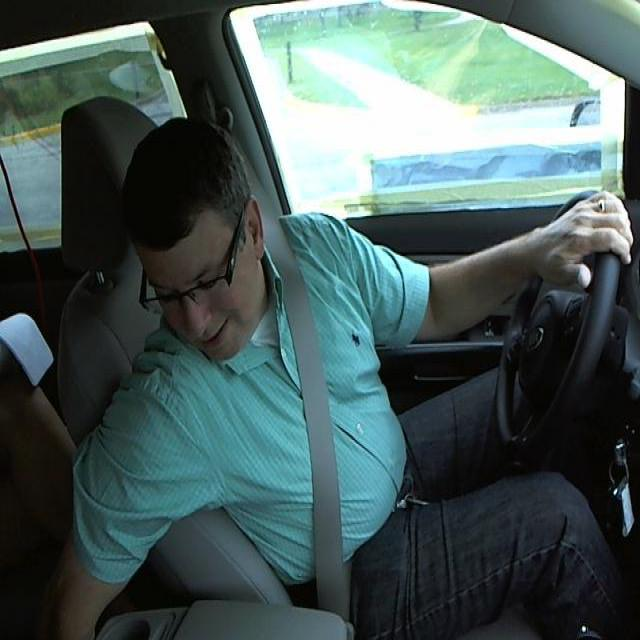seatbelt: (257, 208, 337, 443)
